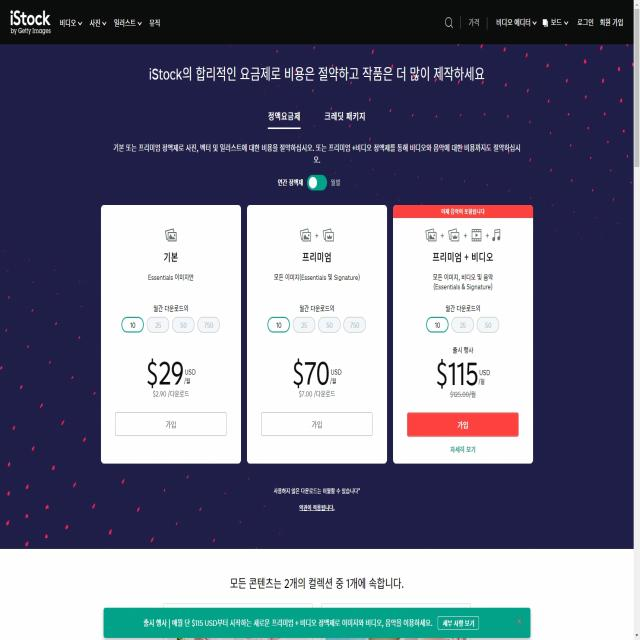menu-bar: (438, 5, 628, 35), (54, 11, 168, 35)
